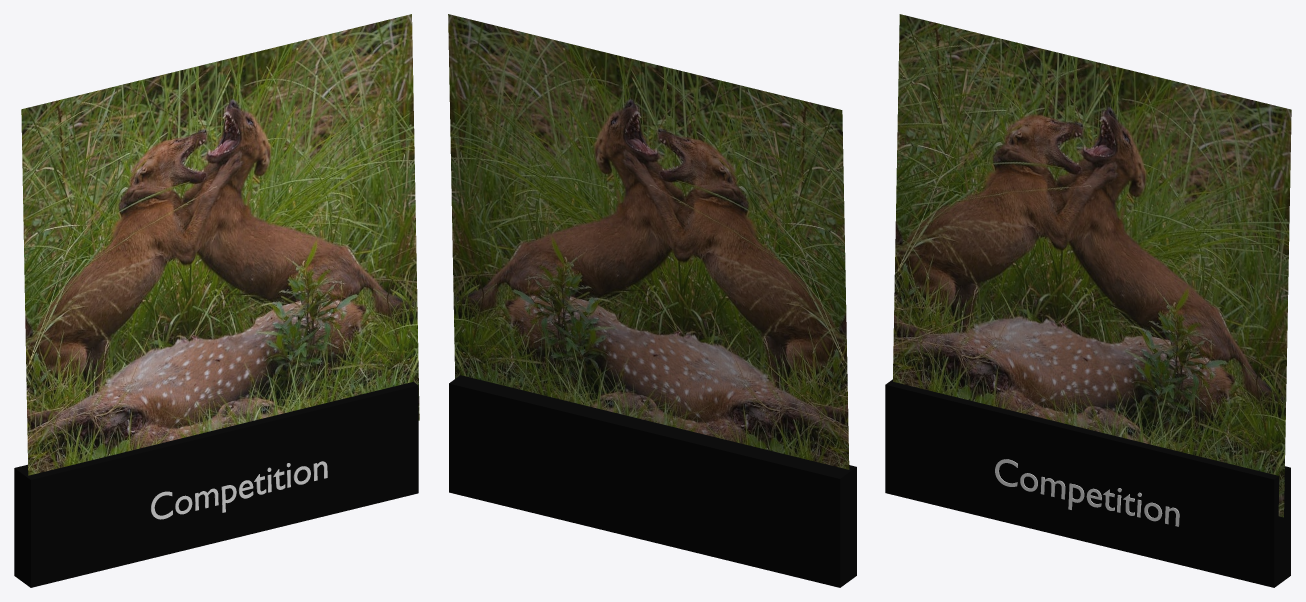
The model's file is competition.gltf.
3 views of the same model, side by side, from view 1: azimuth 30°, elevation 25°; view 2: azimuth 150°, elevation 25°; view 3: azimuth 330°, elevation 25° (orthographic).
Parts seen in each view (by area): view 1: competition, Cube.014, Text.014; view 2: competition, Cube.014; view 3: competition, Cube.014, Text.014.
Part boxes in pixels (x1=…): competition: x1=21, y1=14, x2=419, y2=475; Cube.014: x1=14, y1=382, x2=418, y2=587; Text.014: x1=151, y1=461, x2=327, y2=519; competition: x1=448, y1=14, x2=849, y2=469; Cube.014: x1=449, y1=375, x2=856, y2=587; competition: x1=893, y1=14, x2=1291, y2=517; Cube.014: x1=885, y1=379, x2=1290, y2=587; Text.014: x1=995, y1=459, x2=1179, y2=526.
Bounding box in the file's own units: 2.91 × 3.32 × 0.286.
2 materials, 1 textured.
